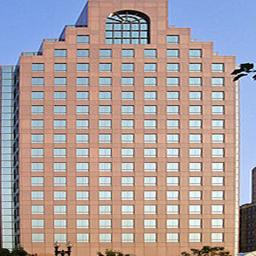building: (17, 0, 236, 256)
